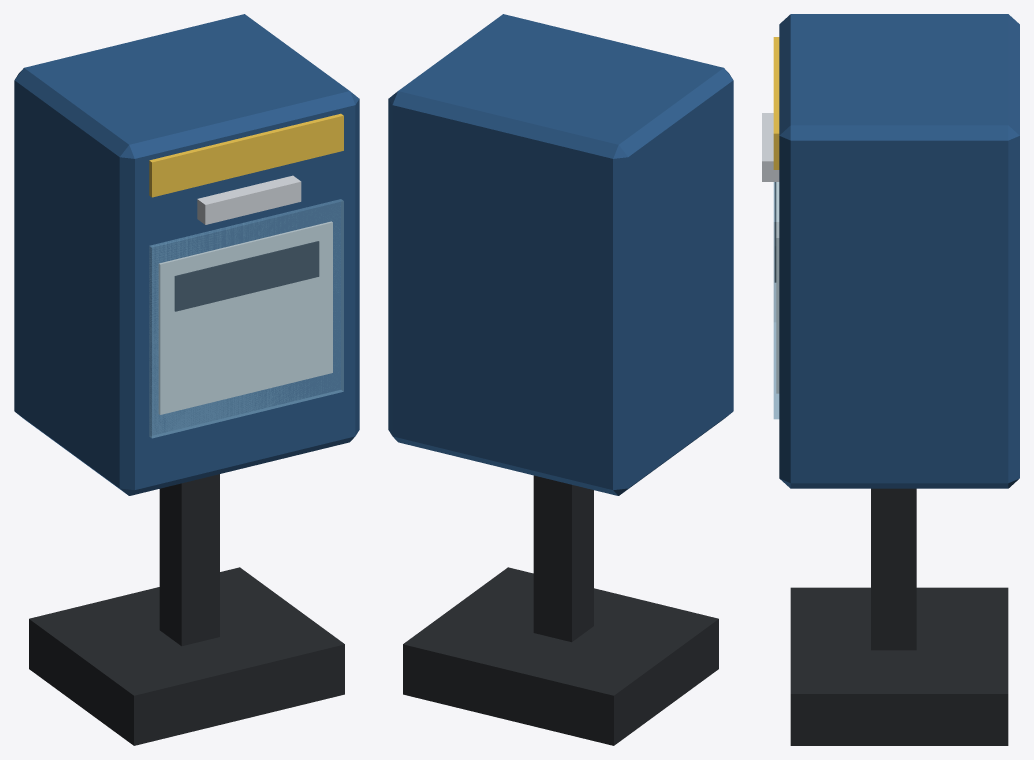
Rendered from newspaper_box.glb.
The picture shows the model from 3 angles, left to right: view 1: azimuth 30°, elevation 25°; view 2: azimuth 150°, elevation 25°; view 3: azimuth 270°, elevation 25°; orthographic projection. The views are drawn at different scales.
Parts seen in each view (by area): view 1: newspaper_box; view 2: newspaper_box; view 3: newspaper_box.
Boxes of the visible parts, box(x1,y1,x2,y2) form: newspaper_box: box(14, 14, 359, 745); newspaper_box: box(388, 14, 733, 745); newspaper_box: box(762, 14, 1019, 745).
Size of the model in its own units: 0.5 by 1.2 by 0.45.
